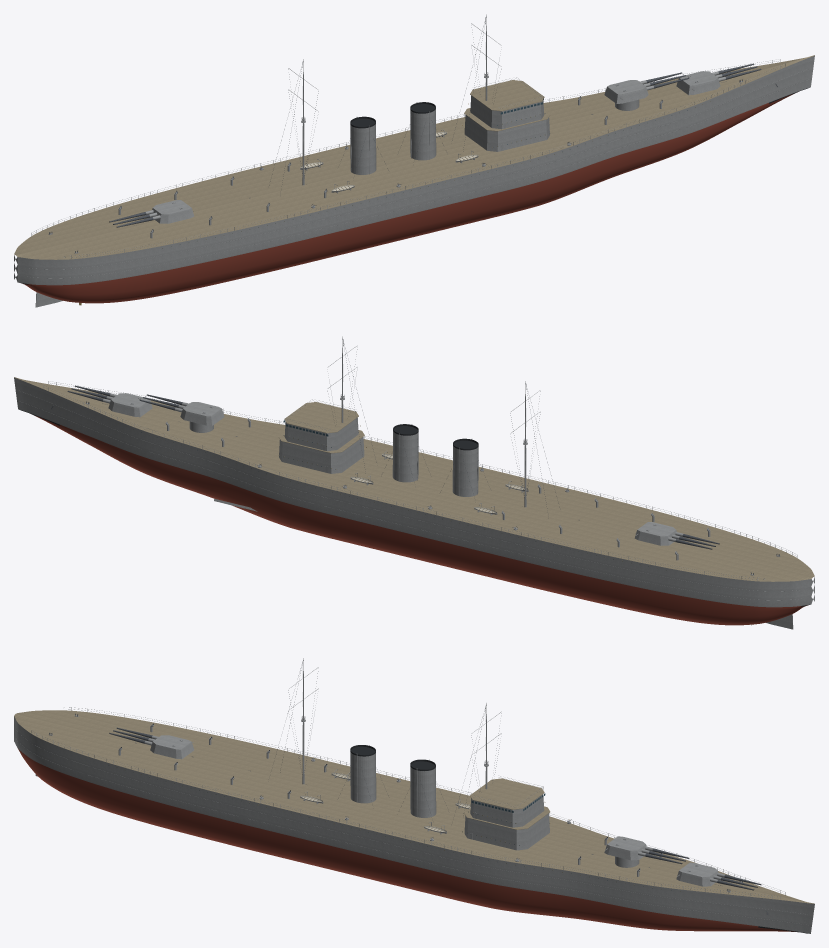
Rendered from mare_bb38.glb.
3 renders of one model, top to bottom at view 1: azimuth 30°, elevation 25°; view 2: azimuth 150°, elevation 25°; view 3: azimuth 330°, elevation 25°, orthographic.
Visible parts, largest first — view 1: Impero improved battleship; view 2: Impero improved battleship; view 3: Impero improved battleship.
Part boxes in pixels (x1,y1,x2,y2): Impero improved battleship: (14,14,814,307); Impero improved battleship: (14,336,814,629); Impero improved battleship: (14,658,814,933).
Size of the model in its own units: 245 by 54.43 by 32.09.
Materials: 8 (2 with a texture image).
